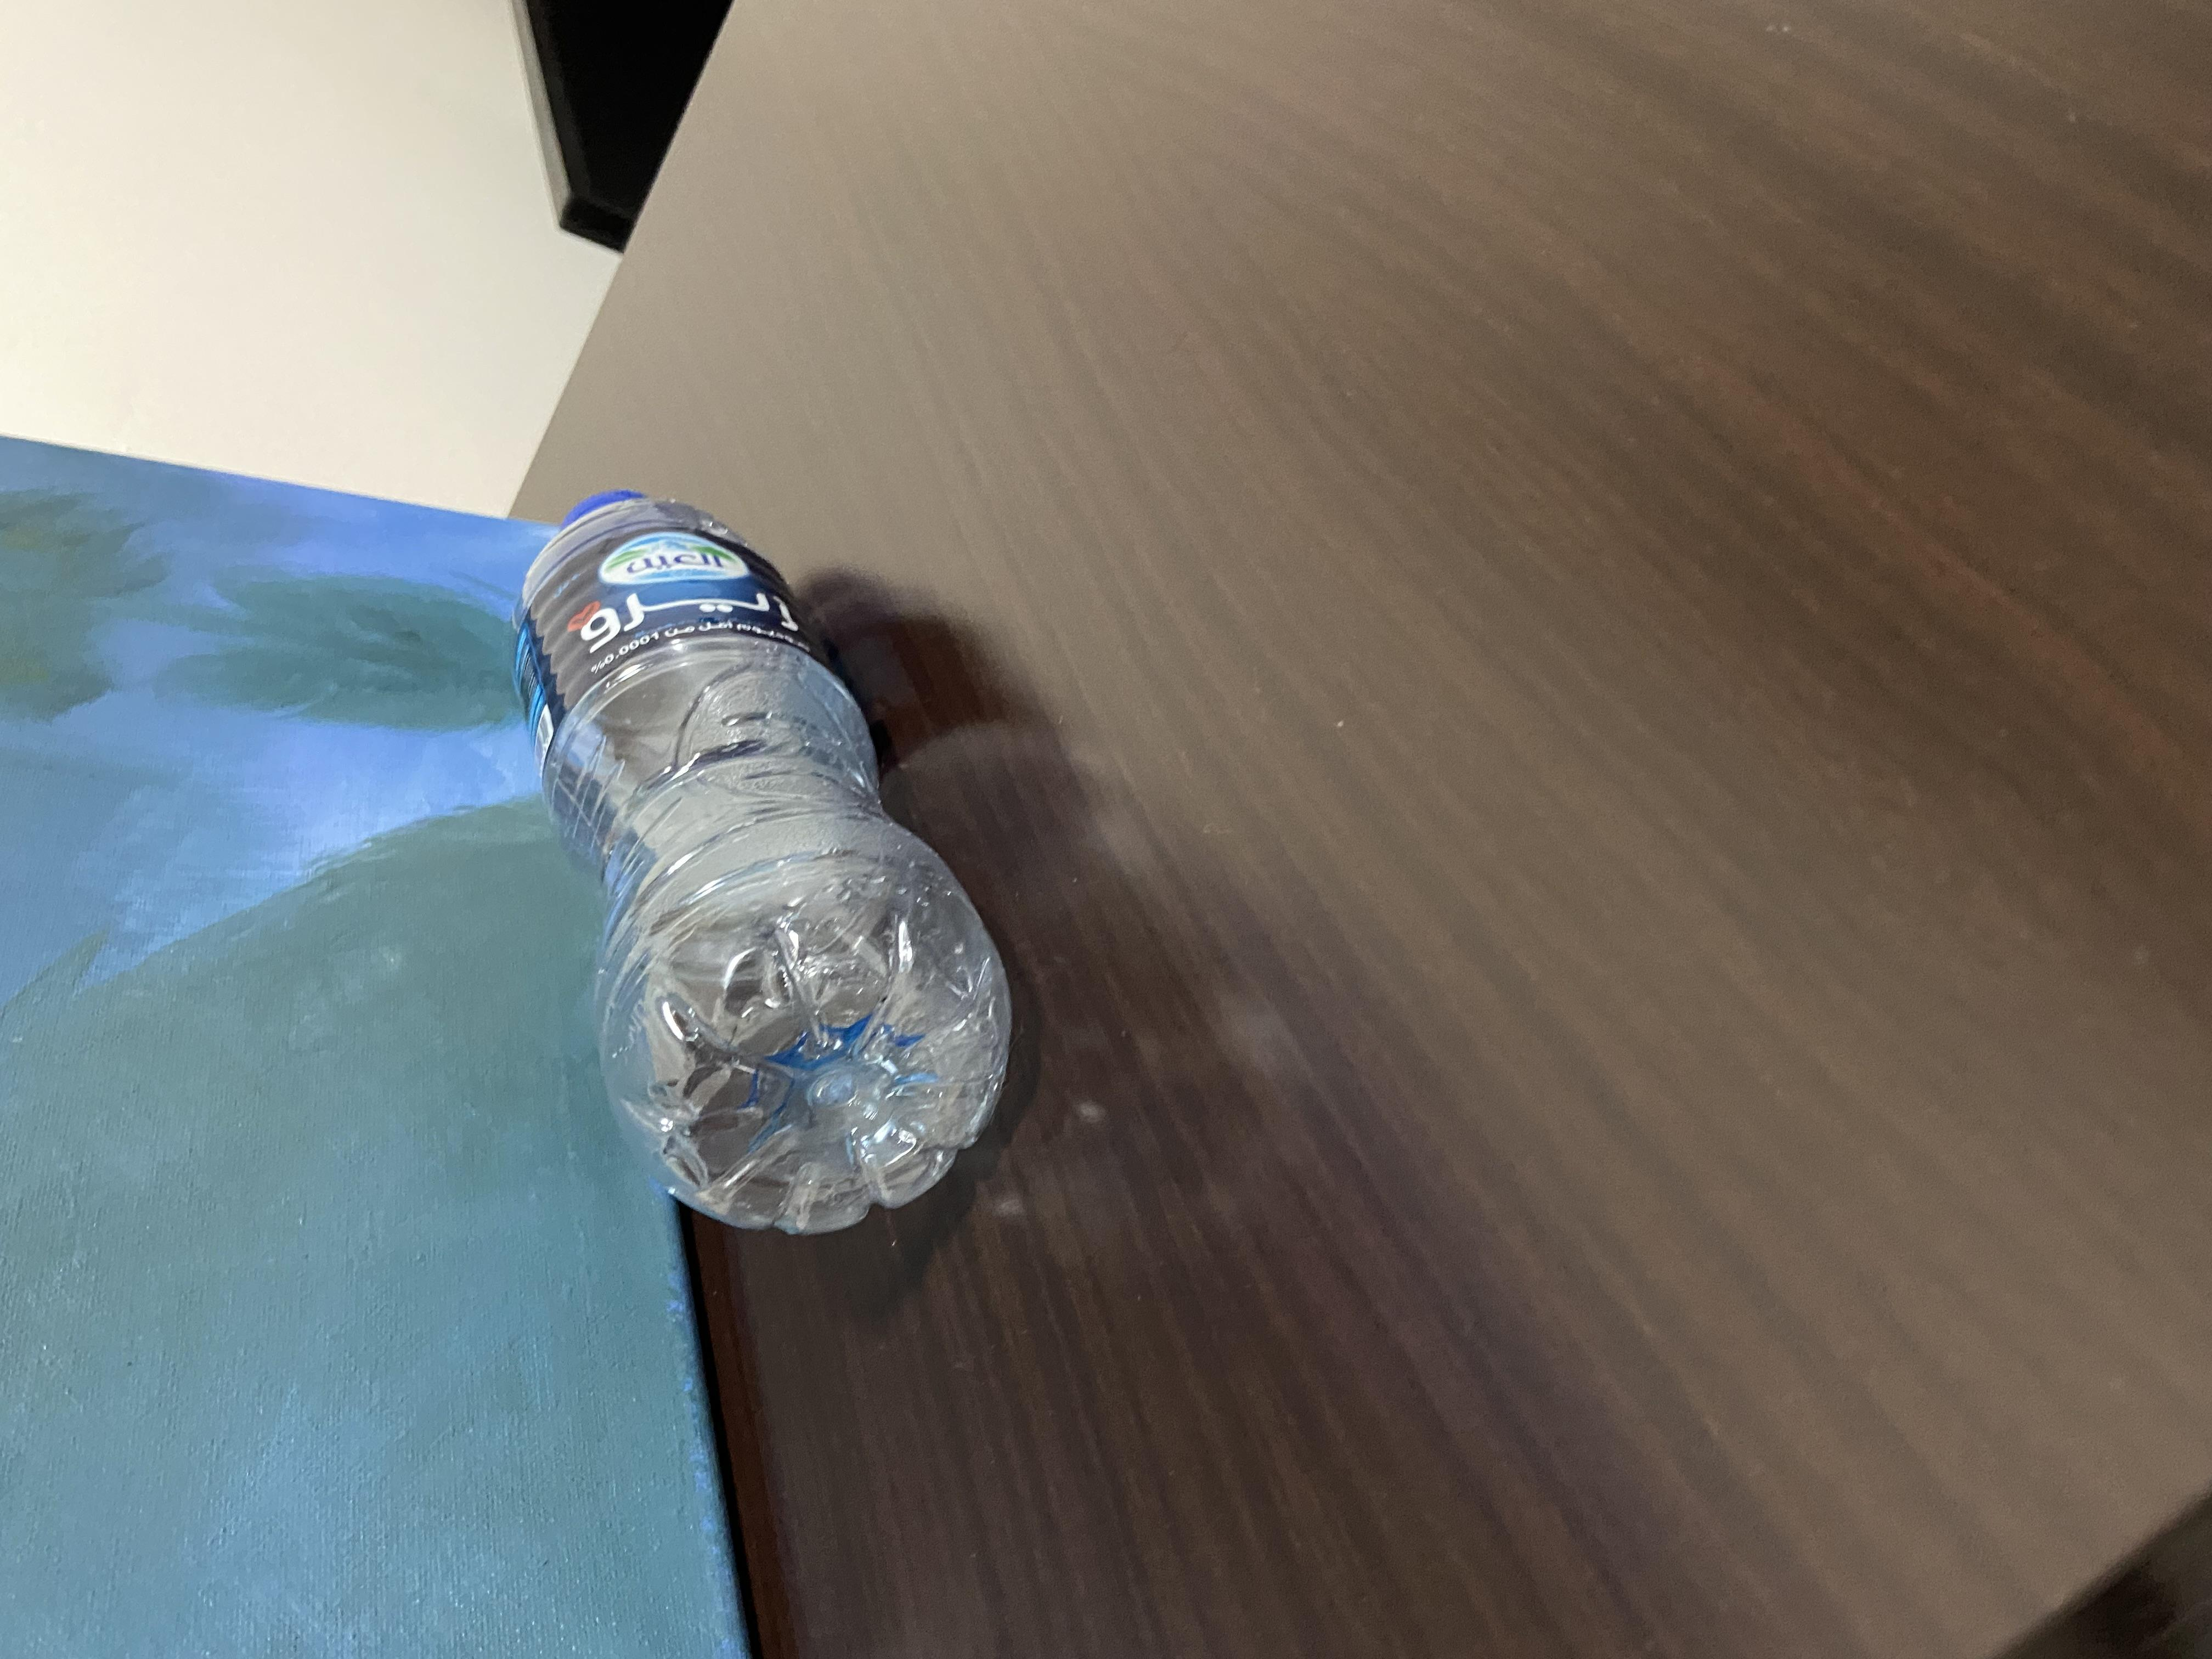bottle: (535, 371, 1620, 760)
